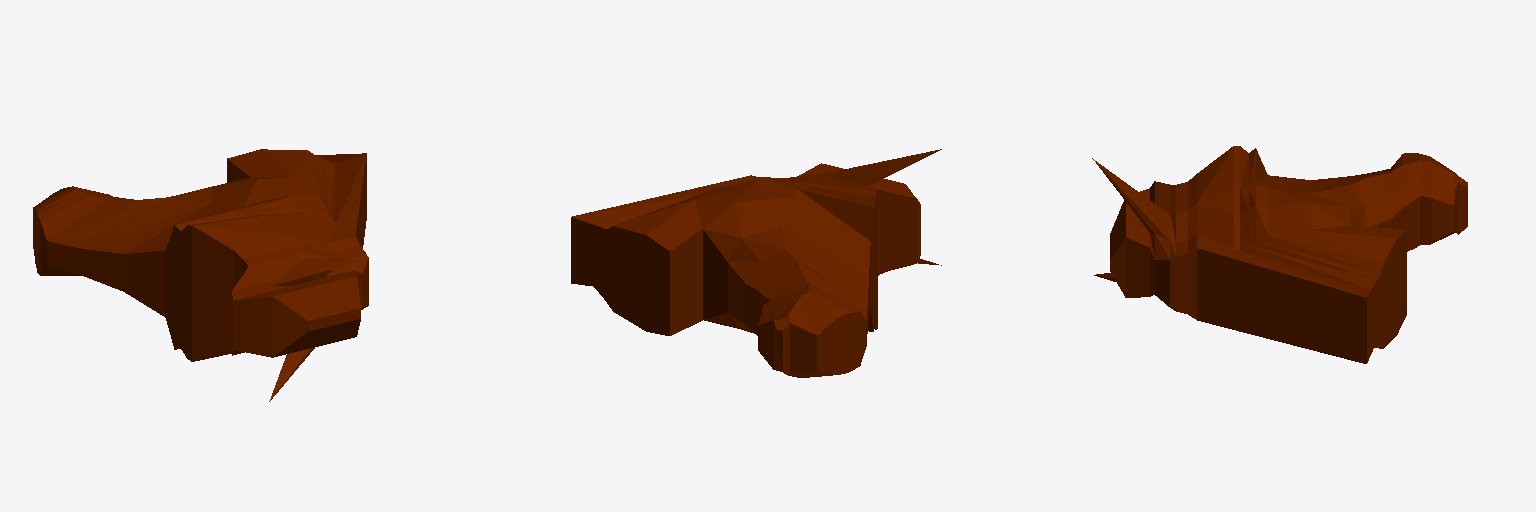
The model's file is caballo.obj.
3 renders of one model, left to right at view 1: azimuth 30°, elevation 25°; view 2: azimuth 150°, elevation 25°; view 3: azimuth 270°, elevation 25°, orthographic.
Parts seen in each view (by area): view 1: pCone41; view 2: pCone41; view 3: pCone41.
Boxes of the visible parts, x1,y1,x2,y2 form: pCone41: [33, 149, 368, 401]; pCone41: [571, 149, 941, 377]; pCone41: [1092, 146, 1467, 363].
Size of the model in its own units: 1.86 by 0.7889 by 1.97.